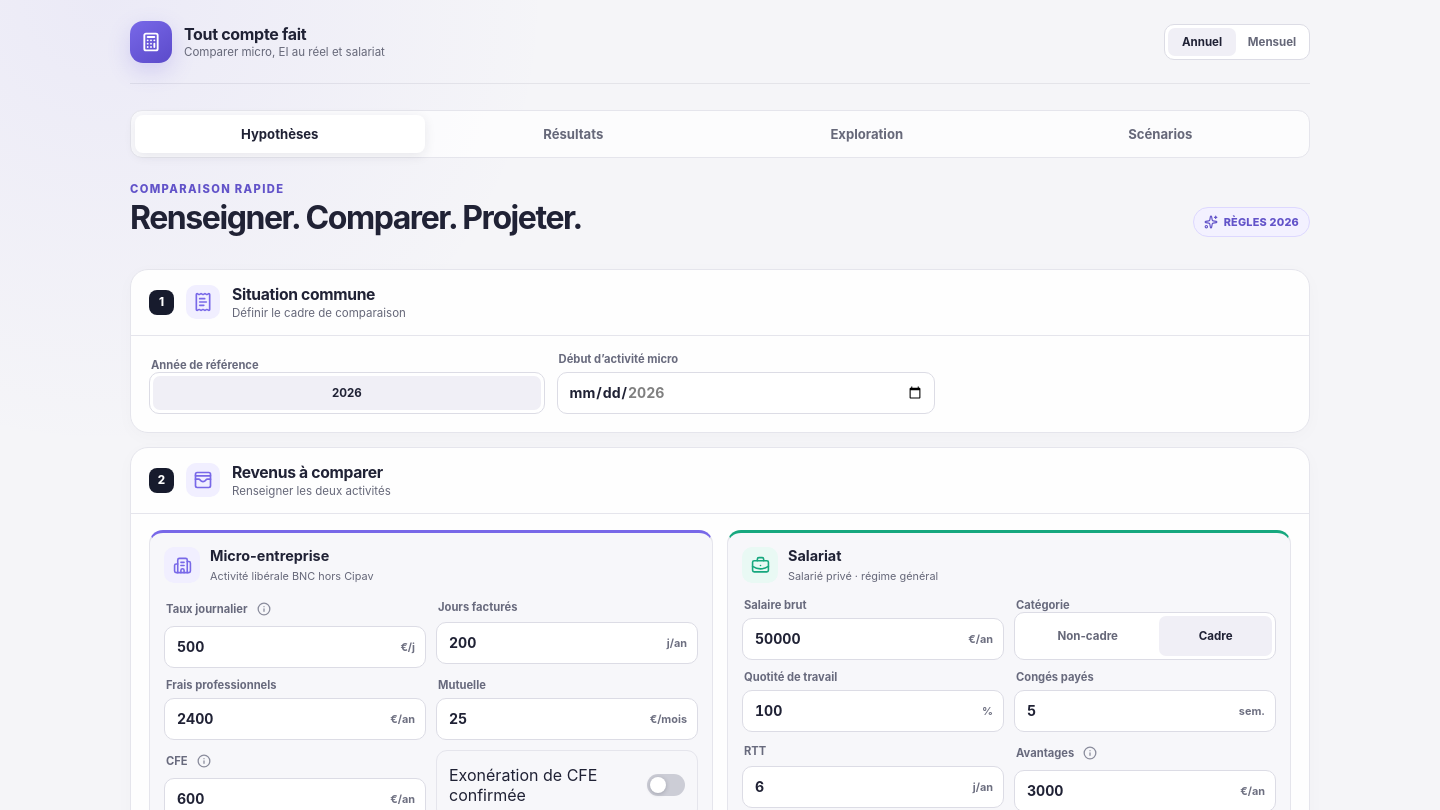
Test case: Cycle micro lisible › montre la moyenne soutenable et les deux disponibles indépendants
The image size is (1440, 810).
Click the tab "Résultats" at [573, 134], box [428,115,718,153]
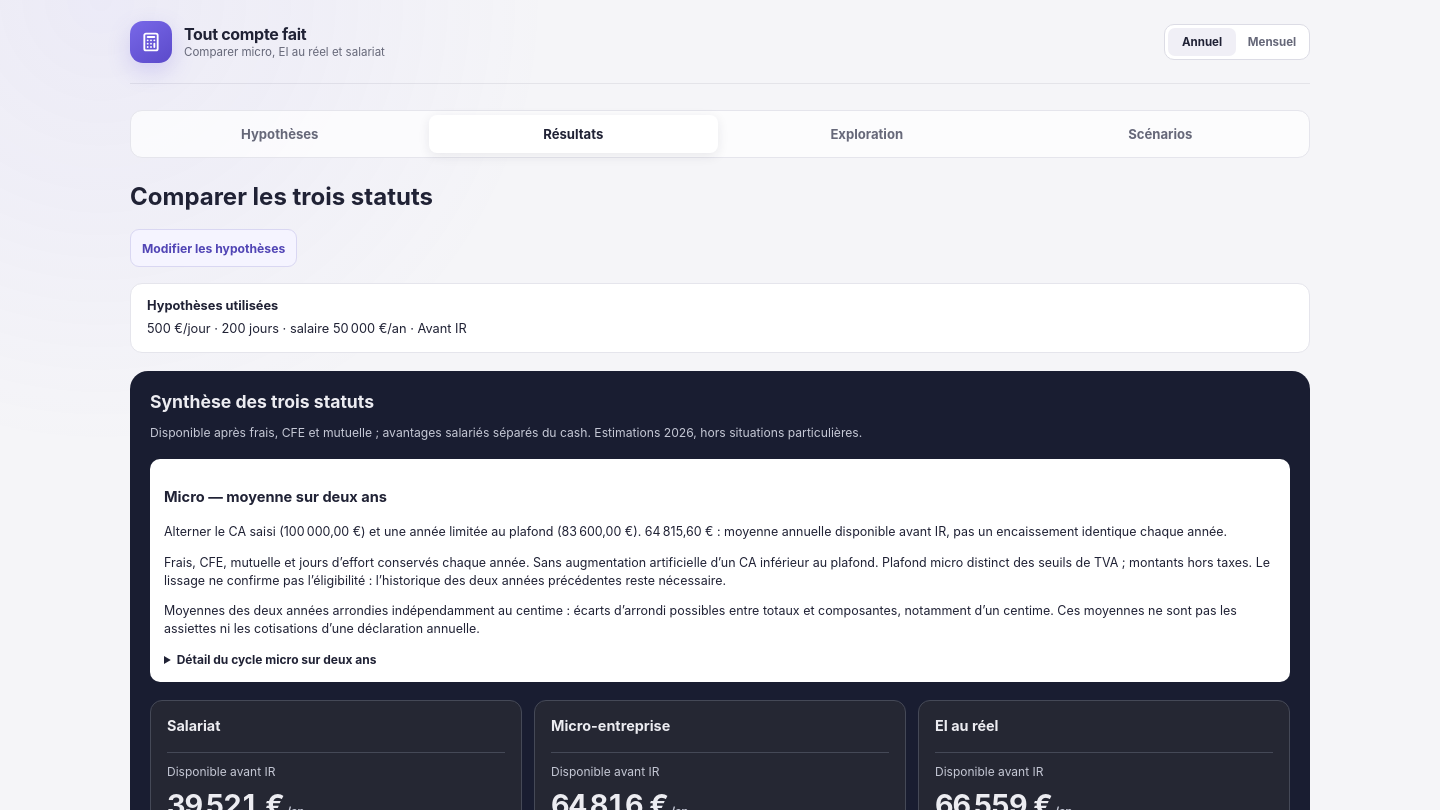
Click the heading "Détail du cycle micro sur deux ans" at [270, 660], box [164,651,376,668]
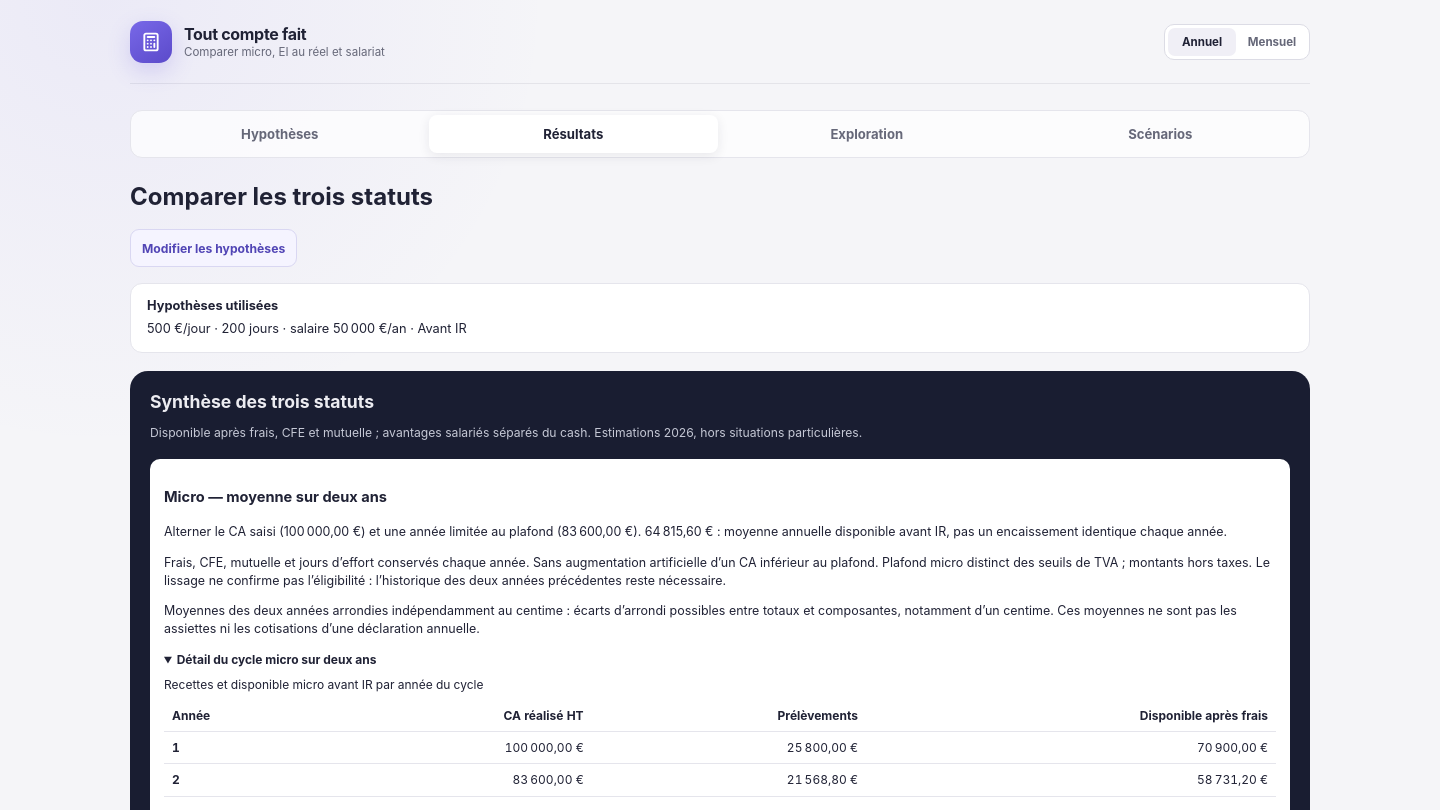
Check: the table "Recettes et disponible micro avant IR par année du cycle" shows "100 000,00", box [505,740,584,755]
Check: the table "Recettes et disponible micro avant IR par année du cycle" shows "83 600,00", box [512,772,584,787]
Check: the table "Recettes et disponible micro avant IR par année du cycle" shows "70 900,00", box [1197,740,1268,755]
Click the tab "Hypothèses" at [280, 134], box [135,115,424,153]
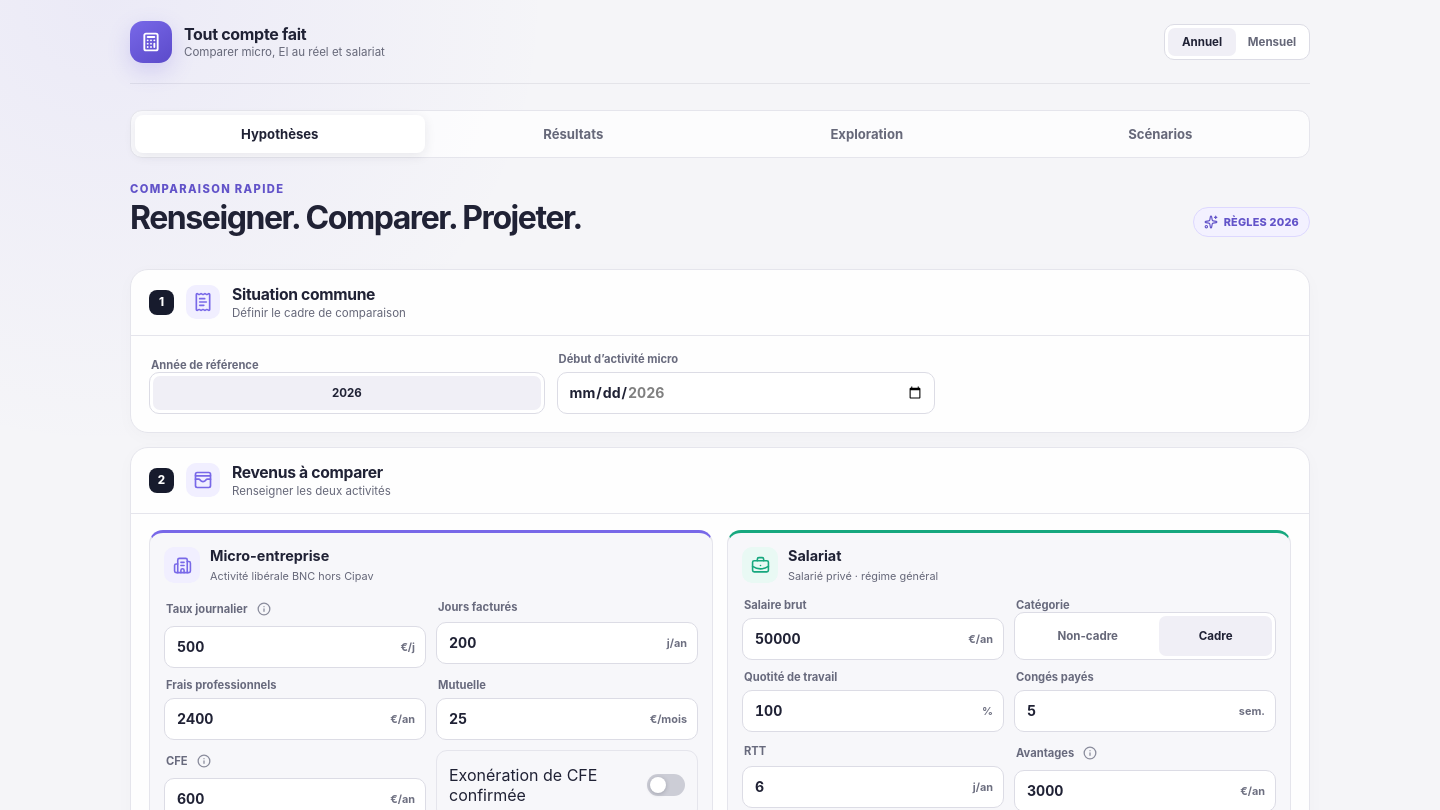
Replace the text in the number field labelled "Taux journalier" with "400" at [285, 647], box [175,637,394,656]
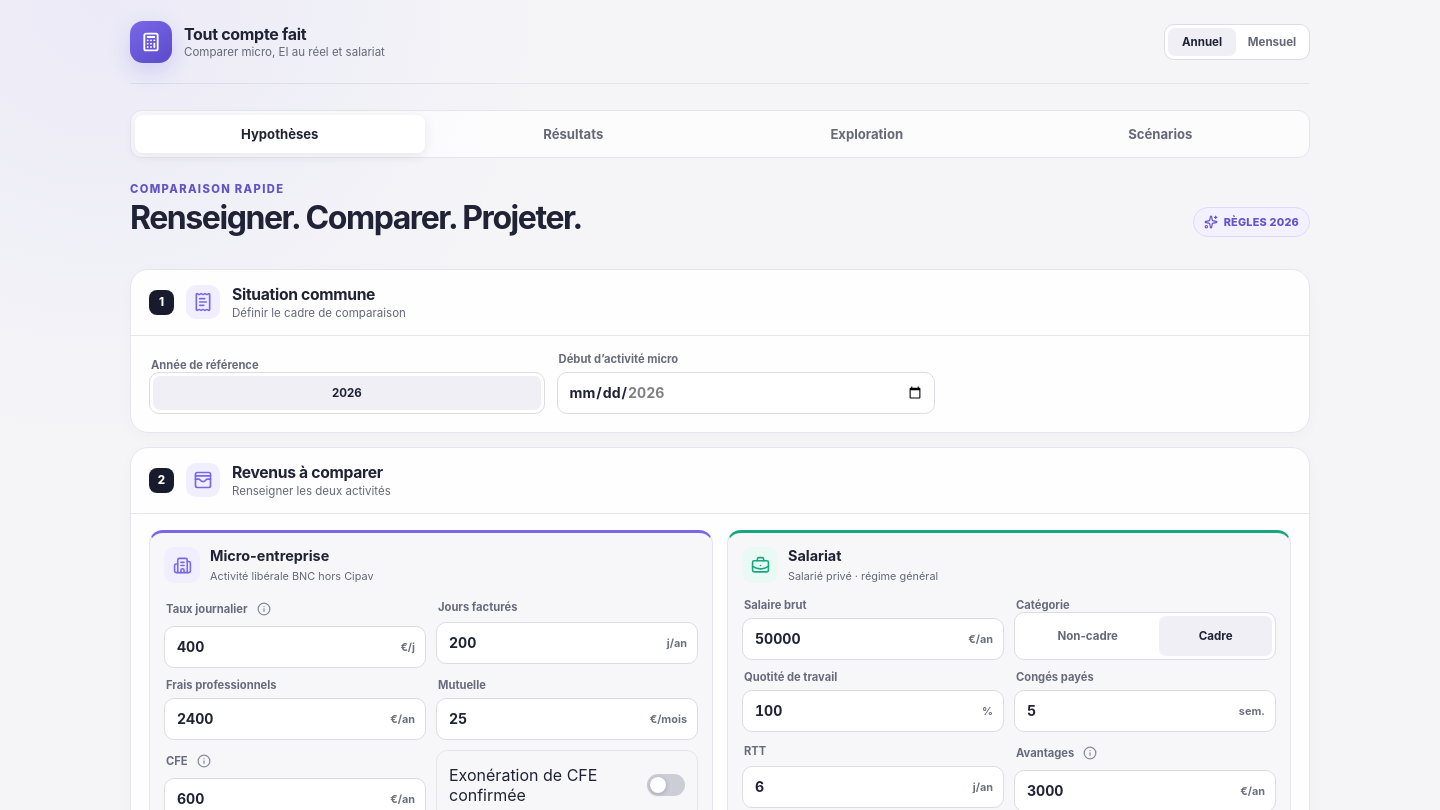
Click the tab "Résultats" at [573, 134], box [428,115,718,153]
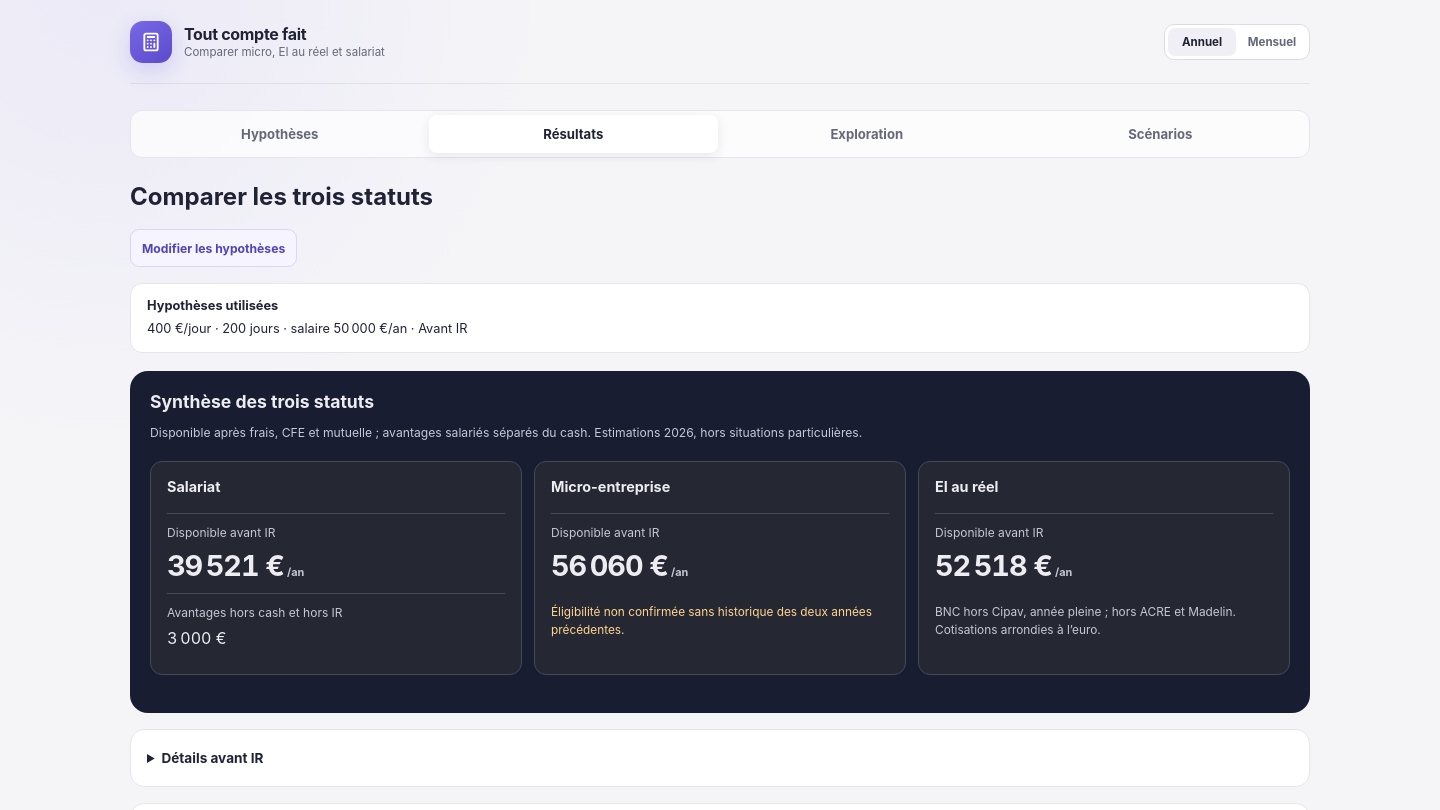
Check: the heading "Détail du cycle micro sur deux ans" is not shown
Check: the element with test id "overview-micro-before" shows "56 060", box [551,548,668,583]
